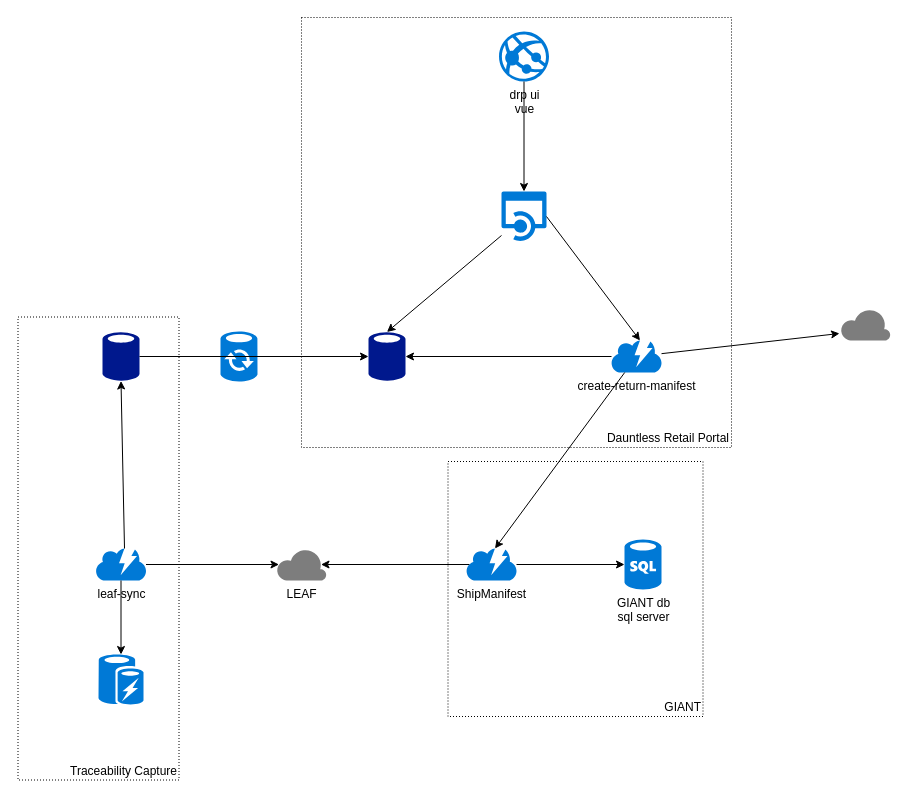
The diagram is 917 pixels wide and 798 high, and some of its shapes have lost their labels. The shapes that lost their labels are listed below. From the top down, each one's centre as x and y in pixels, then its label:
At point 523,216: "drp api graphql postgraphile".
At point 865,324: "korona cloud".
At point 120,356: "traceability event-capture postgres".
At point 386,356: "drp db postgres".
At point 120,679: "redis".
